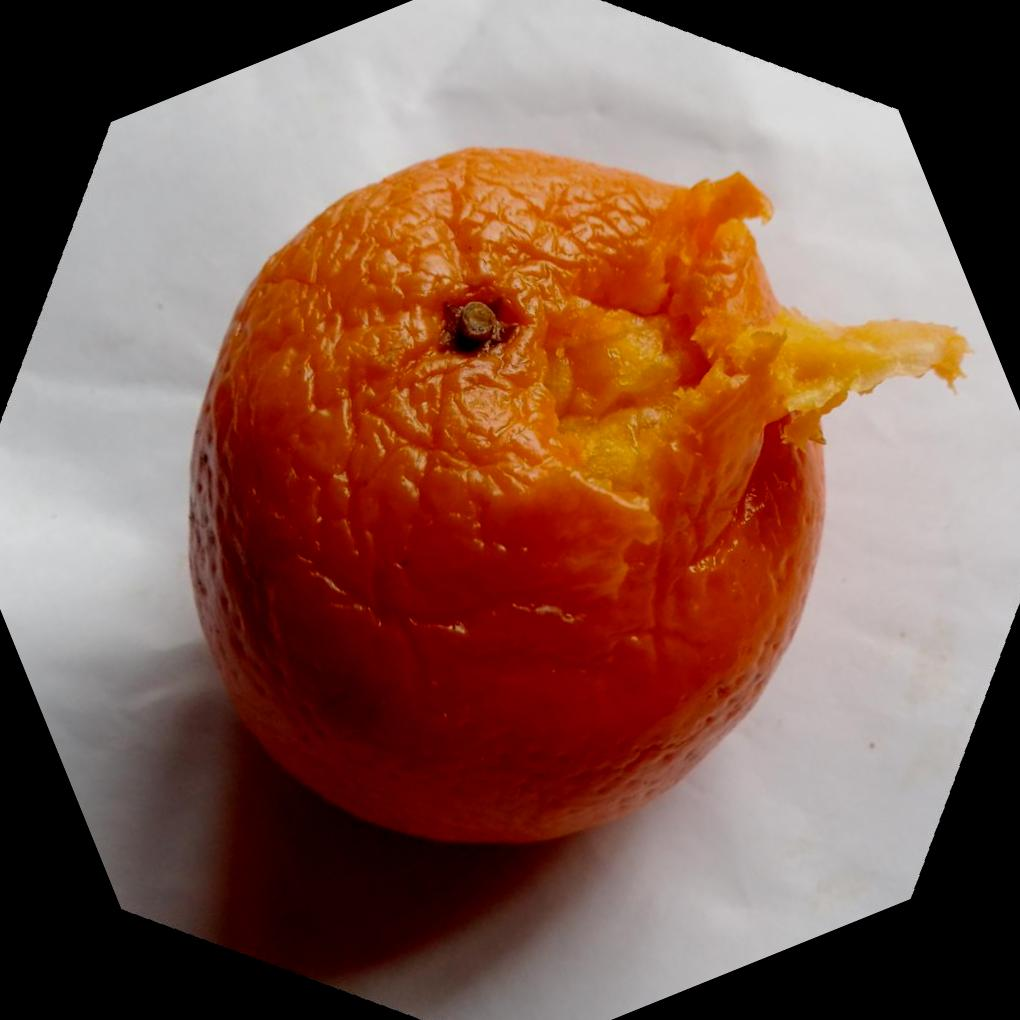FreshOrange: (185, 146, 970, 851)
